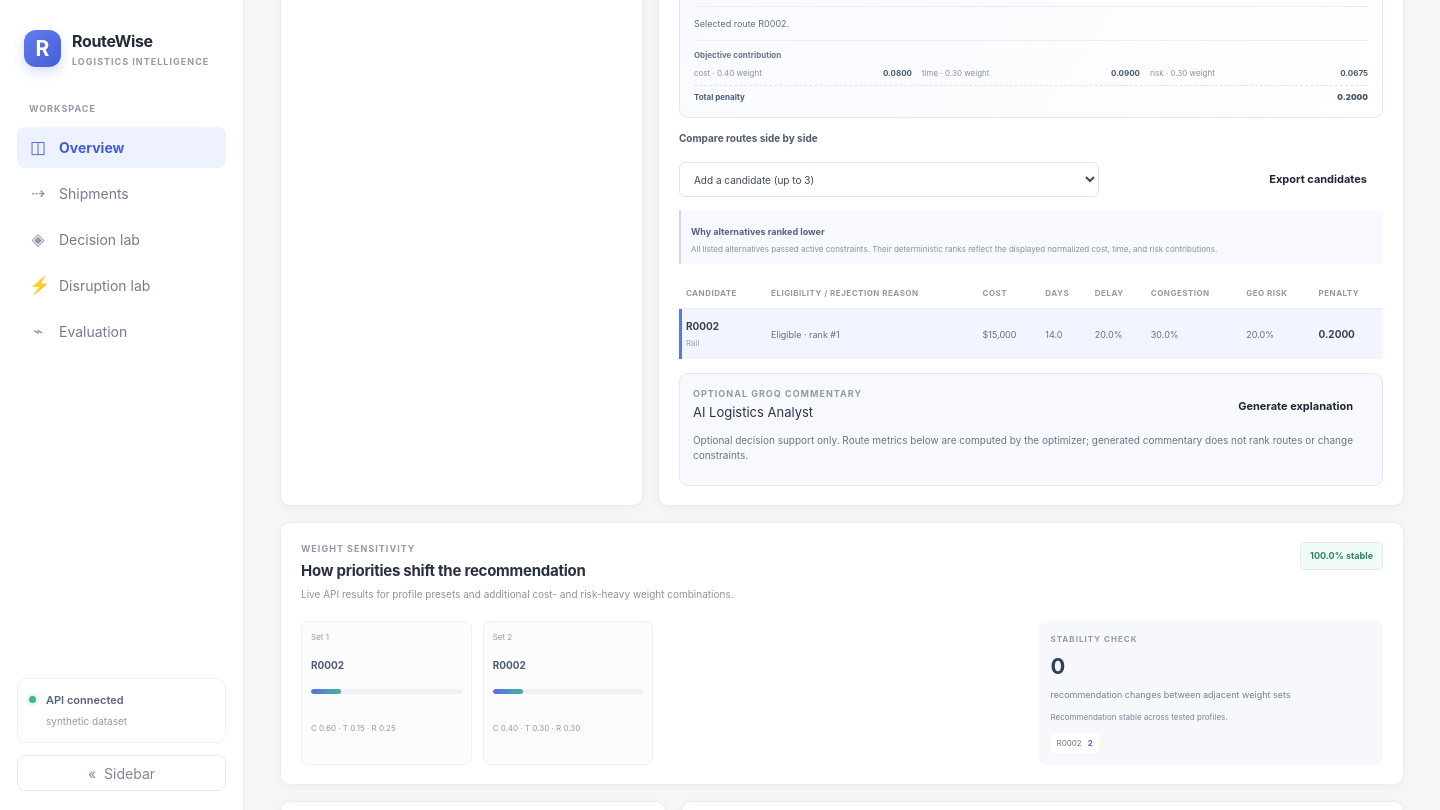
Test case: RouteWise dashboard › requests optional analyst commentary and labels optimizer facts separately
(page scrolled)
Step 1. Click the button "Generate explanation" → (1296, 406), box [1222, 387, 1369, 424]
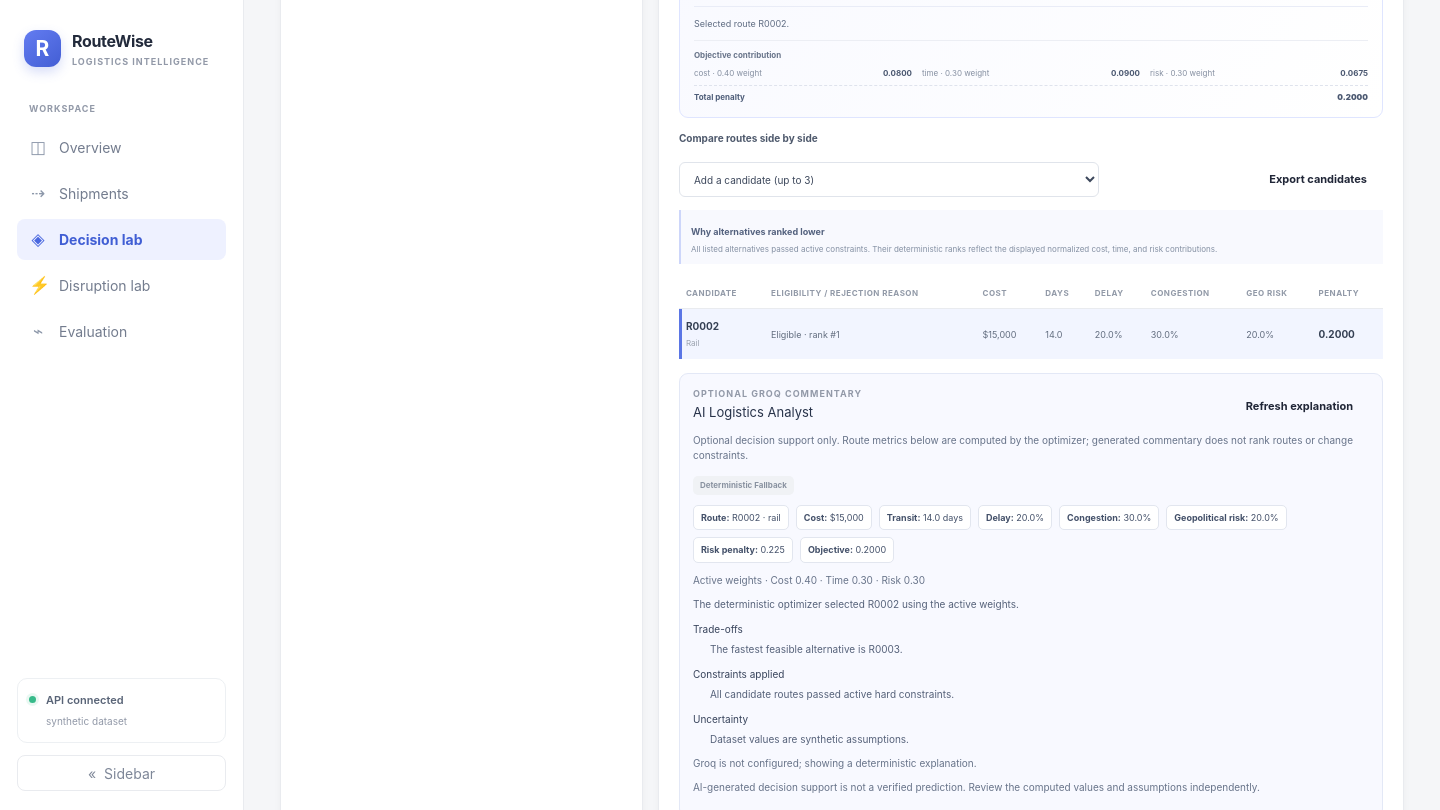
Expected: the text "The deterministic optimizer selected R0002" is shown, [693, 598, 1019, 610]
Expected: the text "Deterministic fallback" is shown, [693, 476, 794, 495]
Expected: the element named "Optimizer-computed route facts" shows "$15,000", [830, 512, 864, 523]
